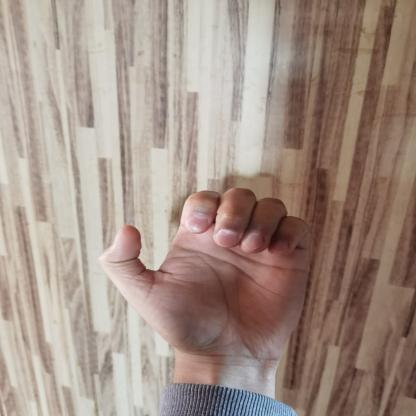E: (92, 180, 324, 374)
